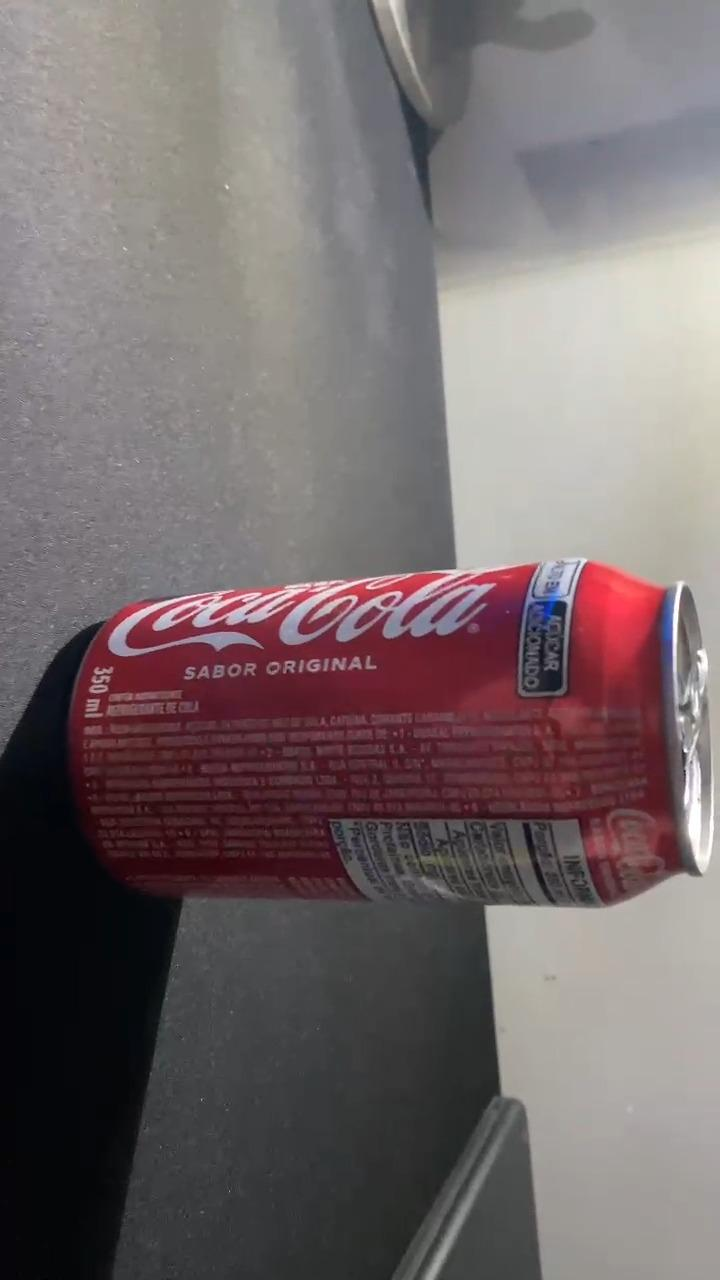coke: (73, 563, 697, 904)
